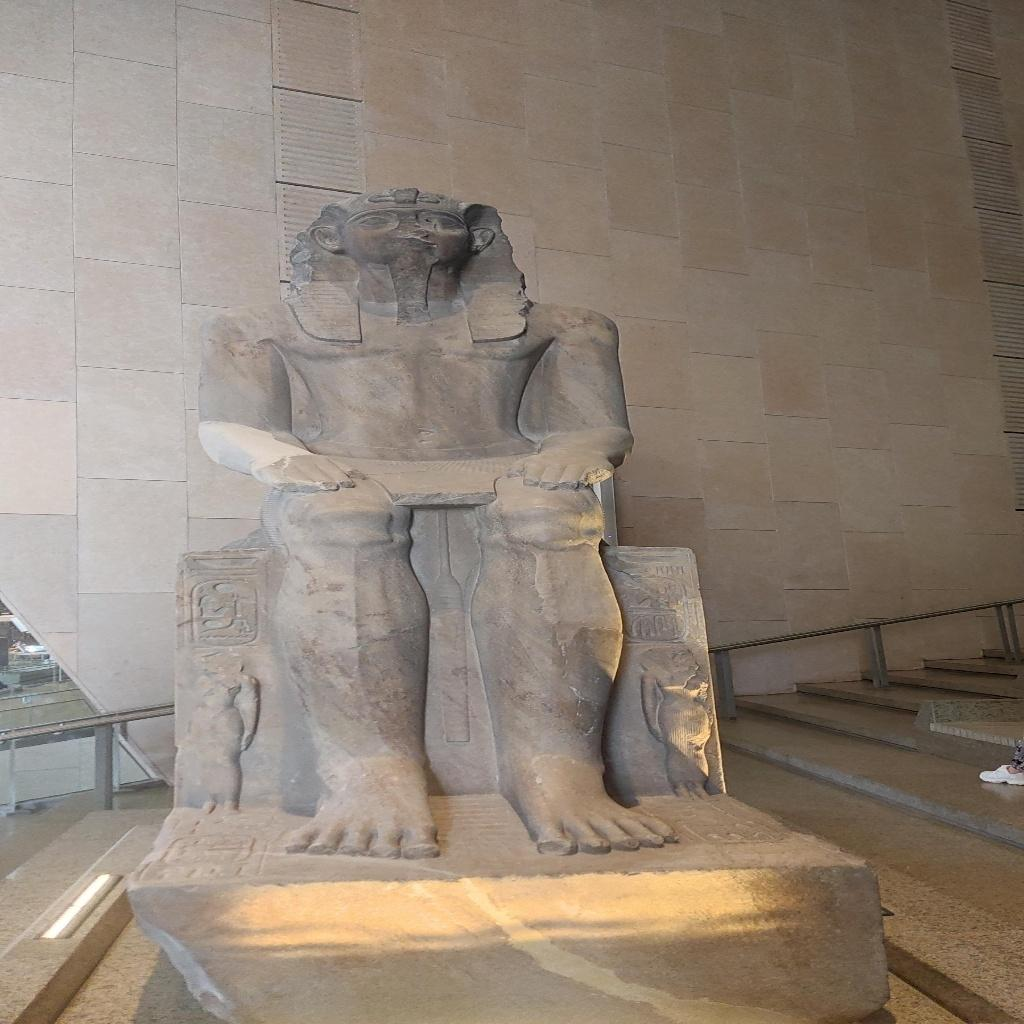Colossal Statue of Middle Kingdom King: (194, 184, 728, 869)
